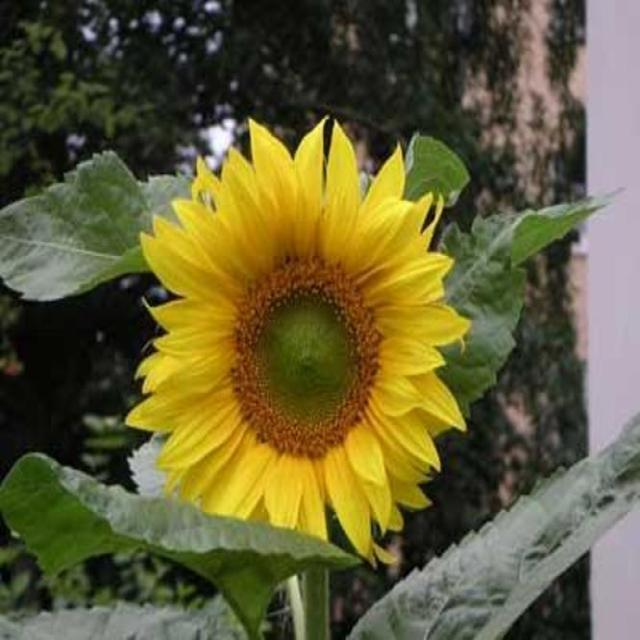sunflower: (135, 110, 488, 562)
